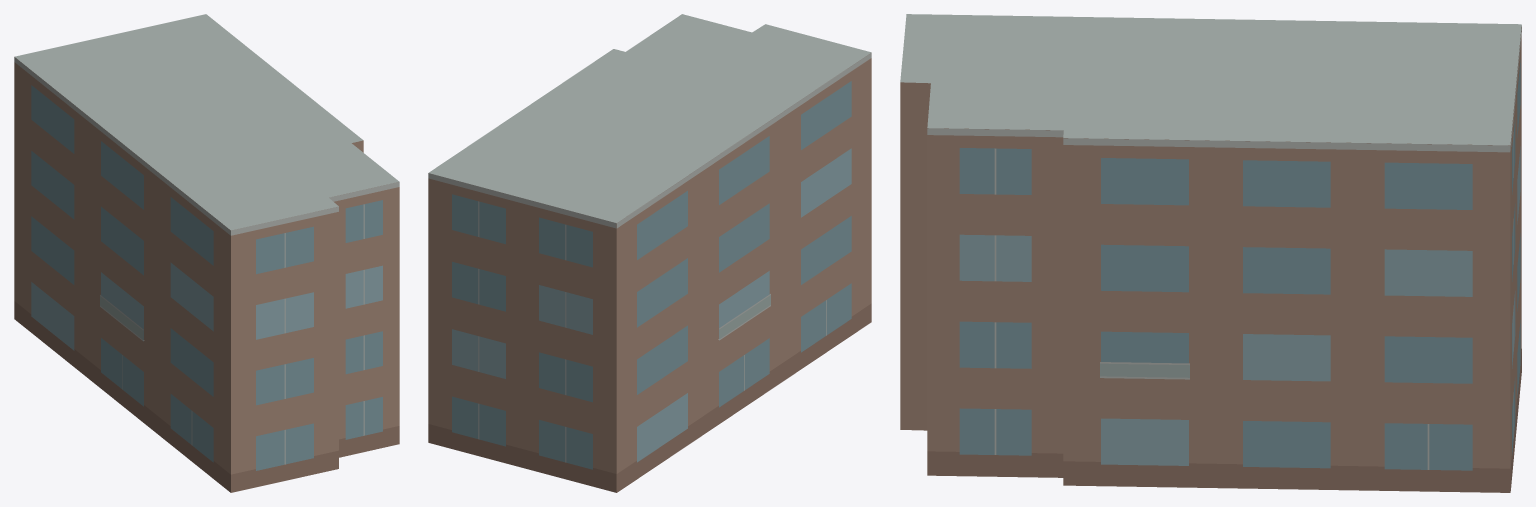
Rendered from survey-upis-32773278.glb.
3 views of the same model, side by side, from view 1: azimuth 30°, elevation 25°; view 2: azimuth 150°, elevation 25°; view 3: azimuth 270°, elevation 25° (orthographic). The views are drawn at different scales.
Parts seen in each view (by area): view 1: survey-upis-32773278.tmp; view 2: survey-upis-32773278.tmp; view 3: survey-upis-32773278.tmp.
Boxes of the visible parts, box(x1,y1,x2,y2) form: survey-upis-32773278.tmp: box(14, 14, 399, 492); survey-upis-32773278.tmp: box(428, 14, 871, 492); survey-upis-32773278.tmp: box(900, 14, 1521, 492).
Bounding box in the file's own units: 9.9 × 12.2 × 19.79.
